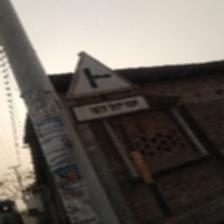Side-road-left: (65, 52, 152, 124)
